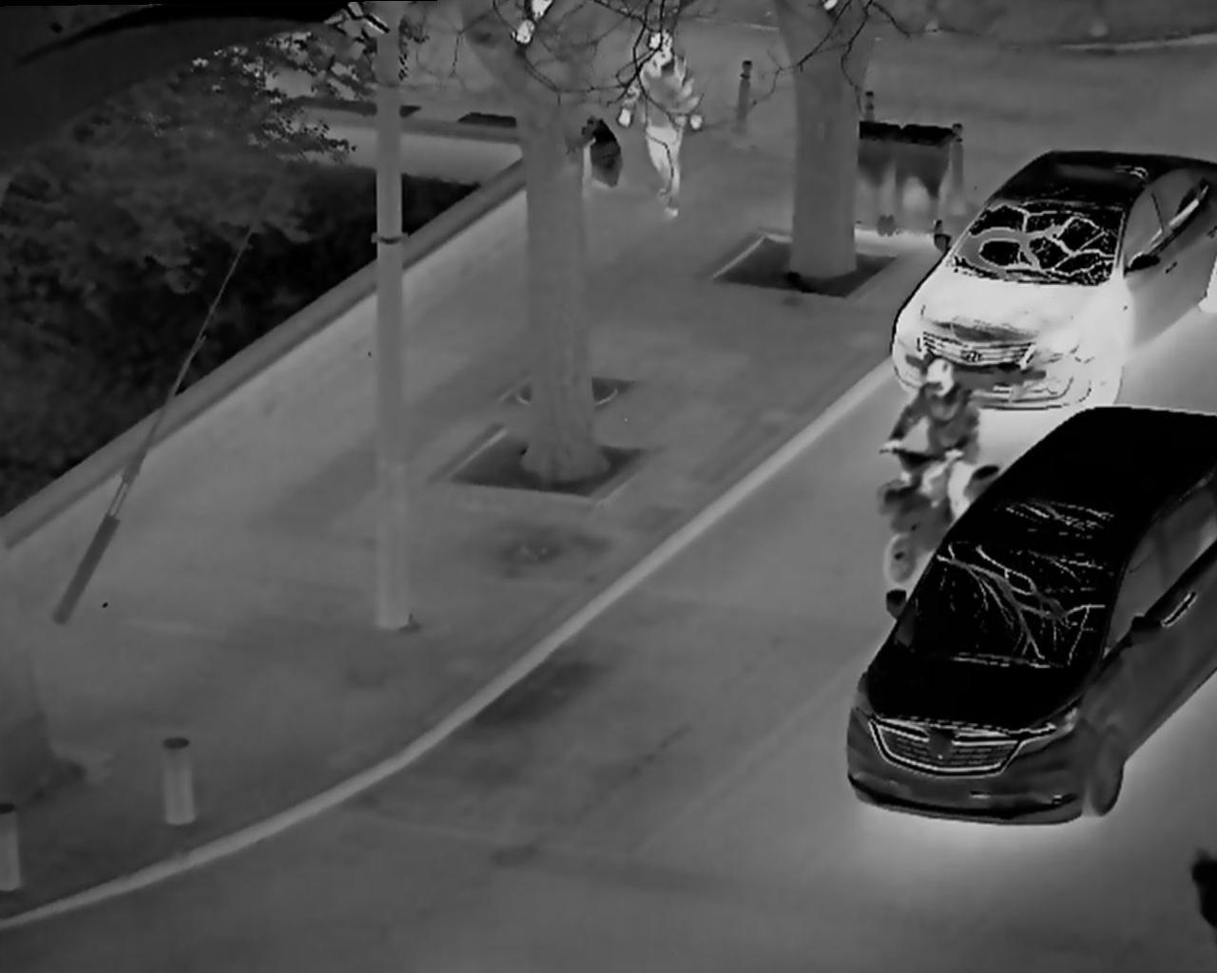person: (890, 350, 987, 546), (617, 27, 713, 223)
